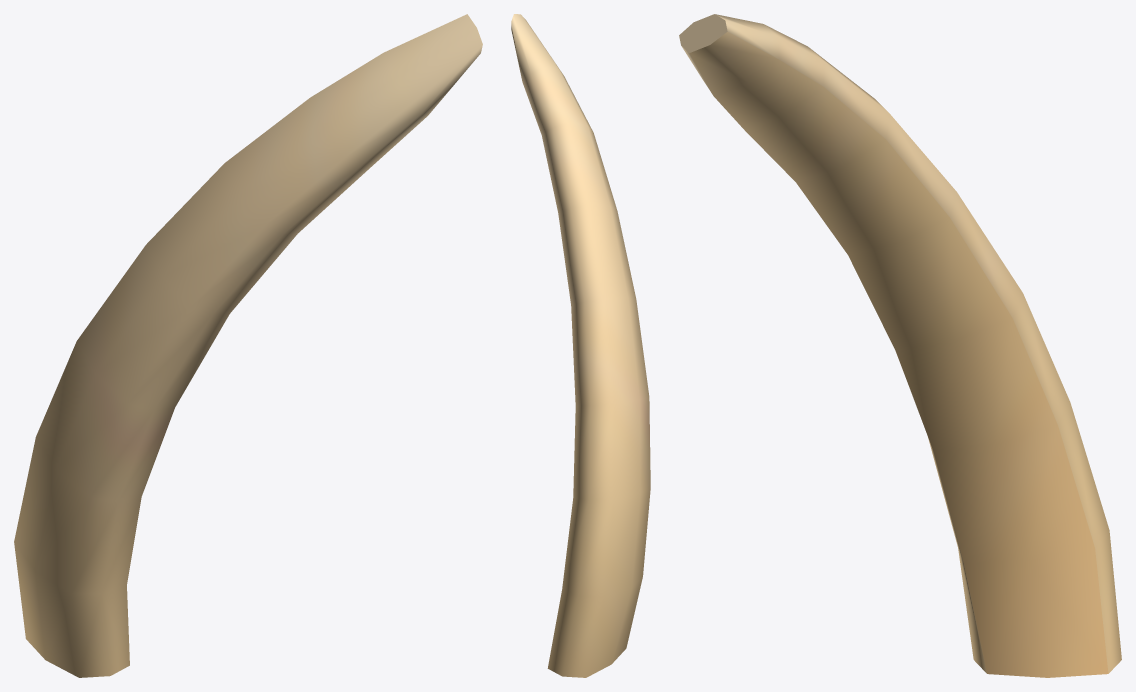
Rendered from Rib1.fbx.
3 views of the same model, side by side, from view 1: azimuth 30°, elevation 25°; view 2: azimuth 150°, elevation 25°; view 3: azimuth 270°, elevation 25° (orthographic). The views are drawn at different scales.
Parts seen in each view (by area): view 1: pCube5; view 2: pCube5; view 3: pCube5.
Part boxes in pixels (x1,y1,x2,y2): pCube5: (14,14,482,677); pCube5: (511,14,650,677); pCube5: (679,14,1121,677).
Size of the model in its own units: 3.95 by 8.79 by 4.52.
